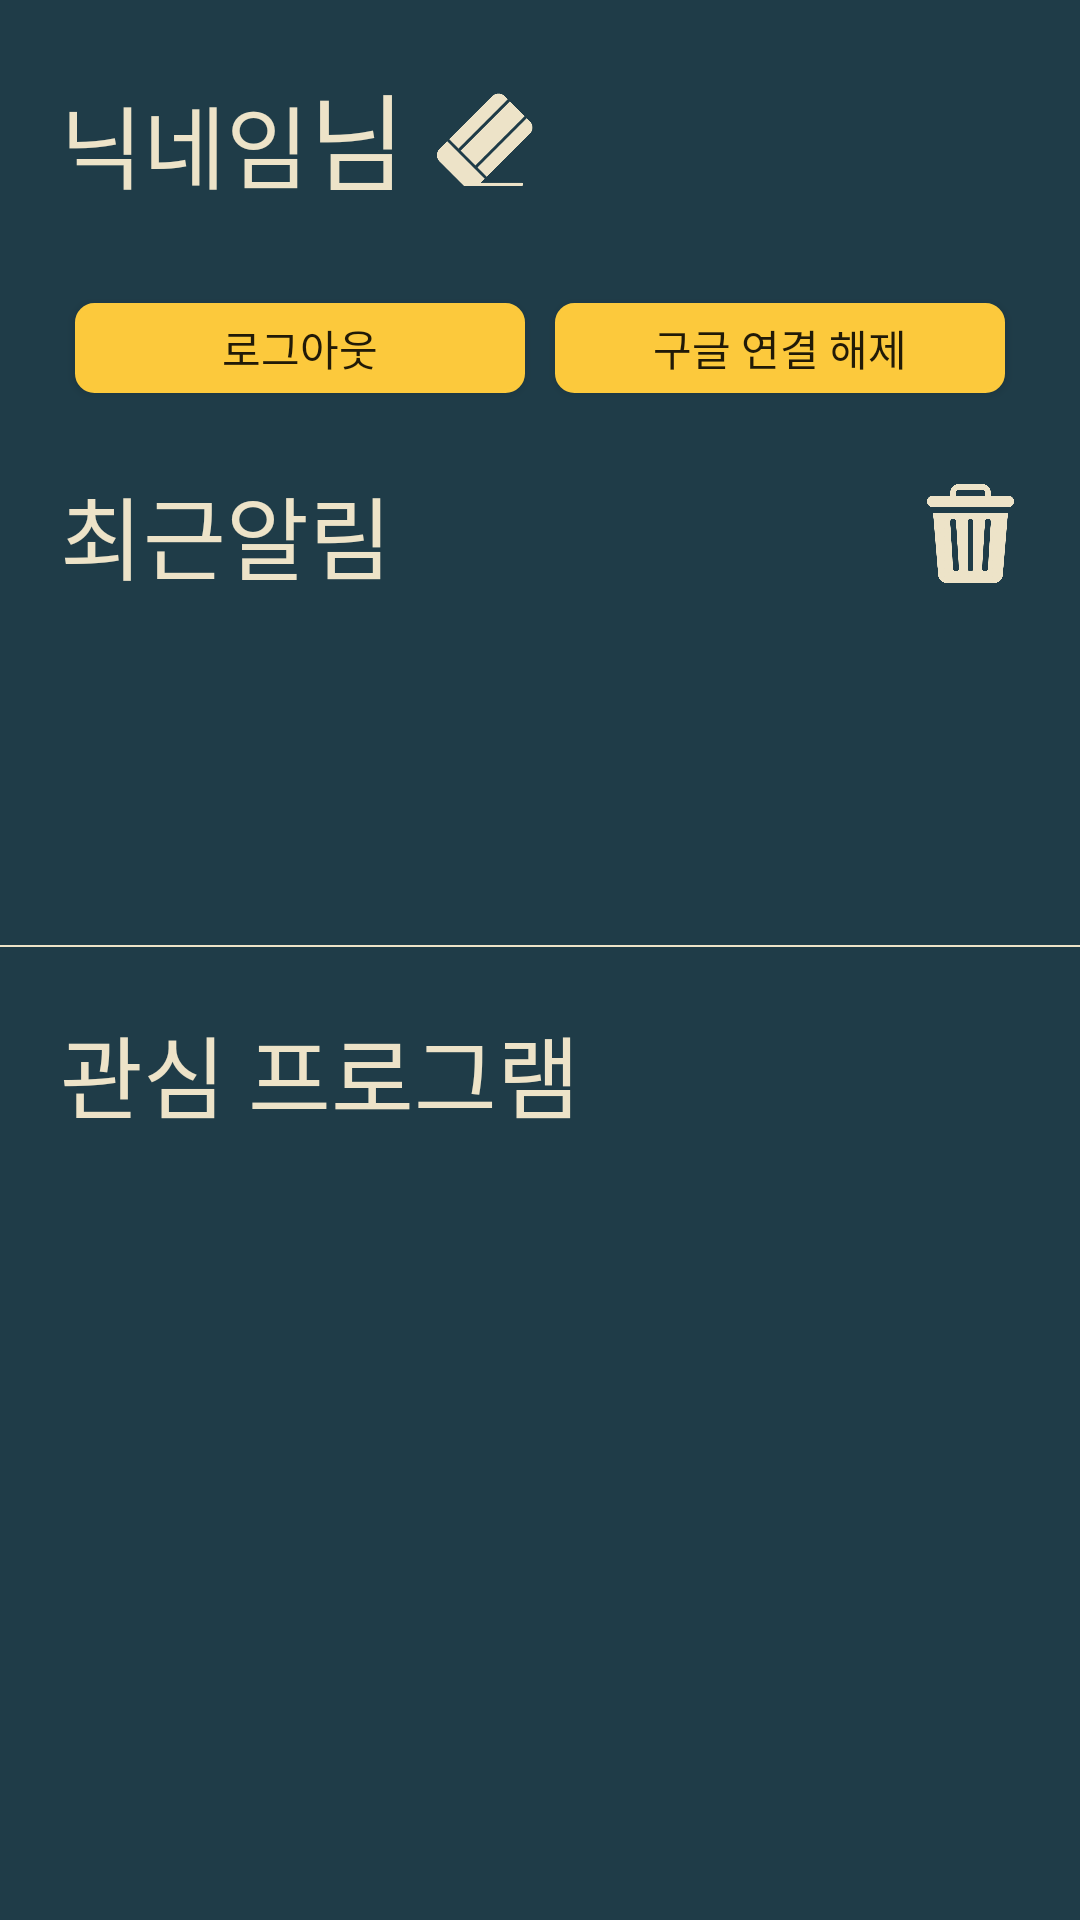

Icons on this 1080*1920 Android screen, each with the point to tap as [x,y]:
bin: [970,533]
eraser: [485,139]
